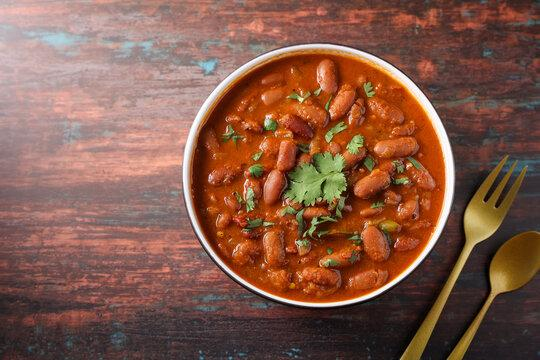rajma: (224, 65, 437, 306)
